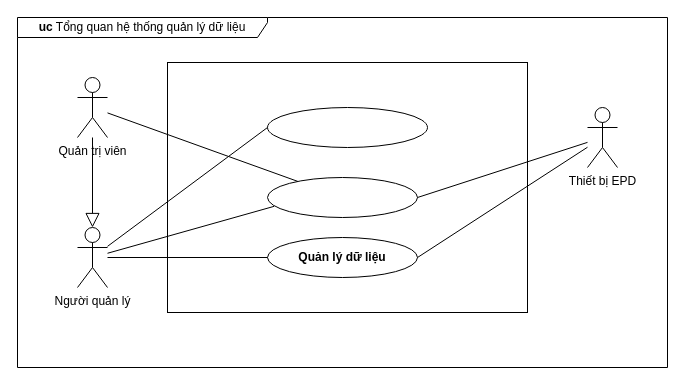
Some shapes in this 685 by 385 pixel diagram are drawn without their labels. The shapes that lost their labels are listed below. From the top down, each one's box as (x1, y1, x2, y2) in pixels, then its label:
(266, 106, 428, 148): Quản lý tài khoản cá nhân
(266, 176, 418, 218): Quản lý thiết bị
